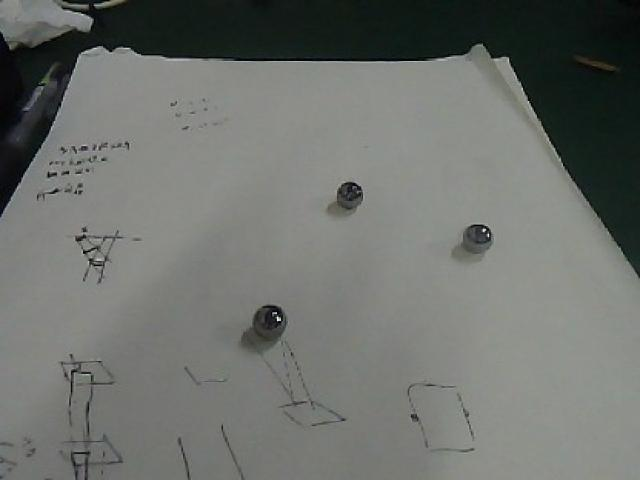steel-ball: (217, 285, 298, 369), (443, 204, 499, 274), (328, 158, 369, 220)
